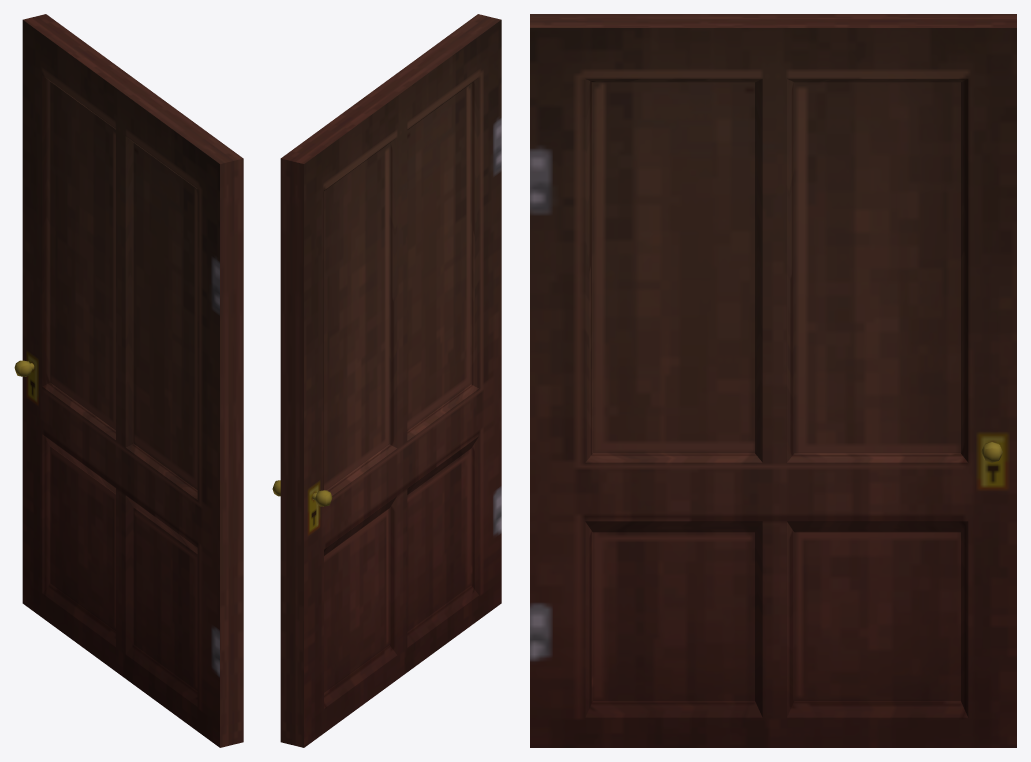
Rendered from PDH_Door.fbx.
3 views of the same model, side by side, from view 1: azimuth 30°, elevation 25°; view 2: azimuth 150°, elevation 25°; view 3: azimuth 270°, elevation 25° (orthographic). The views are drawn at different scales.
Parts seen in each view (by area): view 1: Cube.001; view 2: Cube.001; view 3: Cube.001.
Part boxes in pixels (x1,y1,x2,y2): Cube.001: (22, 14, 243, 747); Cube.001: (280, 14, 501, 747); Cube.001: (530, 14, 1016, 747).
Bounding box in the file's own units: 21.07 × 203 × 125.
Materials: 1 (1 with a texture image).
